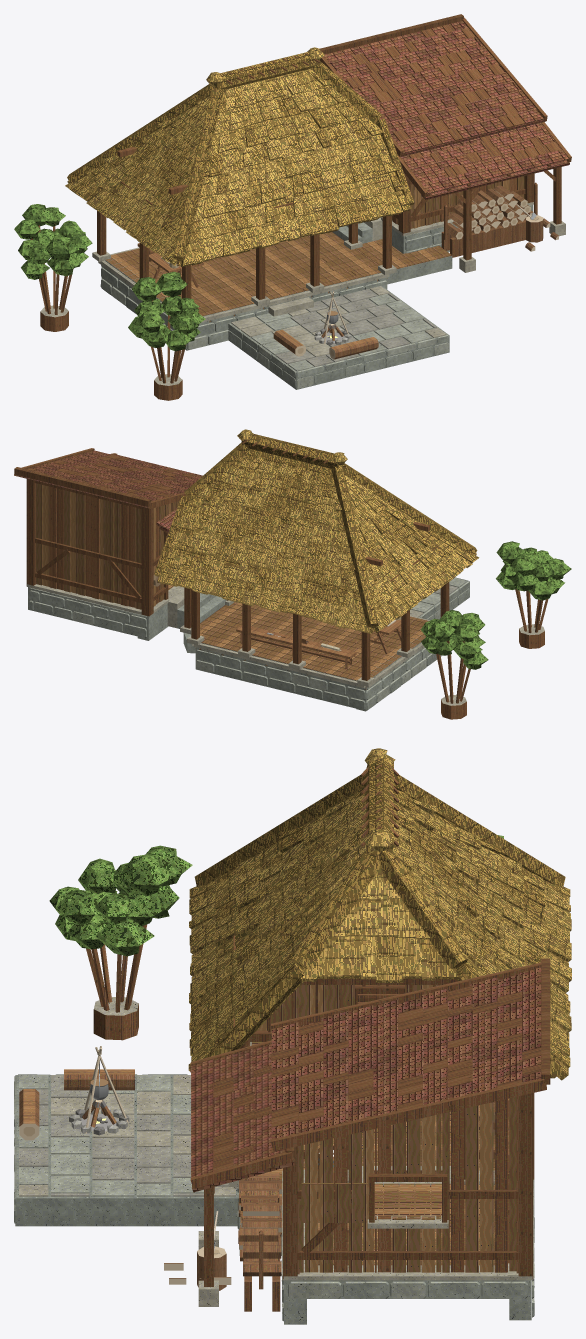
Rendered from survival.glb.
The picture shows the model from 3 angles, top to bottom: view 1: azimuth 30°, elevation 25°; view 2: azimuth 150°, elevation 25°; view 3: azimuth 270°, elevation 25°; orthographic projection. The views are drawn at different scales.
Parts seen in each view (by area): view 1: Survival_RoofThatch, Survival_RoofStore, Survival_Coppice, Survival_FloorYard, Survival_FloorCanopy, Survival_ServiceLogPile_Stack, Survival_PlinthCanopy, Survival_PlinthYard, Survival_FrameCanopy, Survival_ShellStore, Survival_FloorPorch, Survival_FramePentice (+6 smaller); view 2: Survival_RoofThatch, Survival_ShellStore, Survival_Coppice, Survival_FloorCanopy, Survival_PlinthCanopy, Survival_RoofStore, Survival_ShellStoreBase, Survival_FrameCanopy, Survival_FurnishingPropsCanopy, Survival_StepLink, Survival_FloorYard, Survival_PlinthYard; view 3: Survival_RoofThatch, Survival_RoofStore, Survival_ShellStore, Survival_FloorYard, Survival_Coppice, Survival_ShellStoreBase, Survival_ServiceLogPile_Stack, Survival_FloorStore, Survival_FurnishingPropsYard, Survival_ServiceFirePit_Ring, Survival_FramePentice, Survival_FloorCanopy.
Boxes of the visible parts, bbox=[...] form: Survival_RoofThatch: bbox=[65, 47, 414, 267]; Survival_RoofStore: bbox=[319, 14, 571, 199]; Survival_Coppice: bbox=[14, 204, 205, 400]; Survival_FloorYard: bbox=[228, 286, 449, 389]; Survival_FloorCanopy: bbox=[105, 232, 387, 322]; Survival_ServiceLogPile_Stack: bbox=[441, 182, 558, 257]; Survival_PlinthCanopy: bbox=[98, 247, 389, 350]; Survival_PlinthYard: bbox=[228, 323, 449, 388]; Survival_FrameCanopy: bbox=[92, 179, 396, 306]; Survival_ShellStore: bbox=[392, 155, 534, 235]; Survival_FloorPorch: bbox=[357, 239, 452, 284]; Survival_FramePentice: bbox=[421, 164, 565, 272]; Survival_RoofThatch: bbox=[154, 429, 479, 633]; Survival_ShellStore: bbox=[26, 479, 179, 616]; Survival_Coppice: bbox=[420, 541, 571, 719]; Survival_FloorCanopy: bbox=[195, 602, 428, 689]; Survival_PlinthCanopy: bbox=[183, 615, 442, 711]; Survival_RoofStore: bbox=[14, 448, 202, 508]; Survival_ShellStoreBase: bbox=[27, 584, 169, 640]; Survival_FrameCanopy: bbox=[180, 543, 449, 686]; Survival_FurnishingPropsCanopy: bbox=[236, 617, 401, 669]; Survival_StepLink: bbox=[167, 590, 226, 628]; Survival_FloorYard: bbox=[410, 577, 469, 619]; Survival_PlinthYard: bbox=[420, 577, 469, 620]; Survival_RoofThatch: bbox=[188, 748, 571, 1080]; Survival_RoofStore: bbox=[190, 958, 550, 1192]; Survival_ShellStore: bbox=[283, 1093, 534, 1279]; Survival_FloorYard: bbox=[15, 1075, 237, 1226]; Survival_Coppice: bbox=[49, 835, 503, 1040]; Survival_ShellStoreBase: bbox=[281, 1169, 534, 1324]; Survival_ServiceLogPile_Stack: bbox=[164, 1173, 282, 1311]; Survival_FloorStore: bbox=[362, 1174, 494, 1265]; Survival_FurnishingPropsYard: bbox=[19, 1069, 134, 1140]; Survival_ServiceFirePit_Ring: bbox=[69, 1046, 129, 1135]; Survival_FramePentice: bbox=[198, 1187, 218, 1306]; Survival_FloorCanopy: bbox=[249, 1042, 494, 1180].
Bounding box in the file's own units: 16.08 × 7.53 × 9.94.
29 materials, 24 textured.
